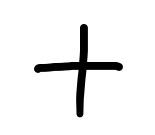plus: (34, 23, 123, 117)
